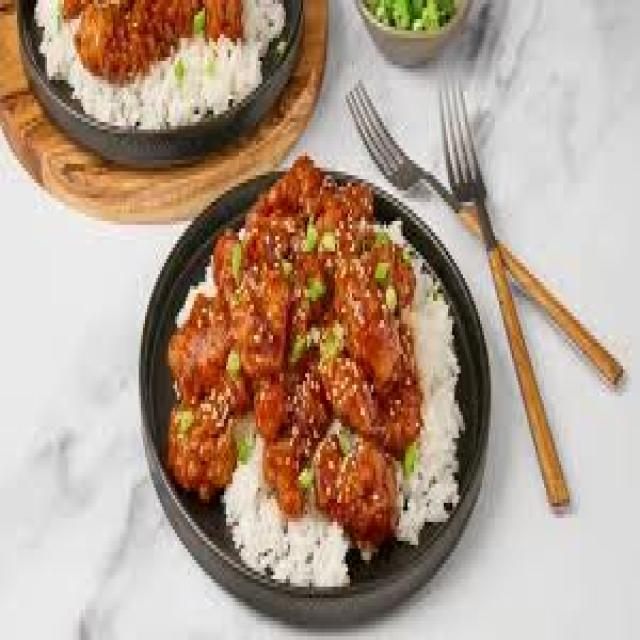Chicken: (169, 156, 420, 545), (62, 0, 241, 80)
Green veg: (365, 0, 457, 30)
Rice: (34, 0, 297, 133), (222, 415, 348, 583), (397, 274, 463, 541)
